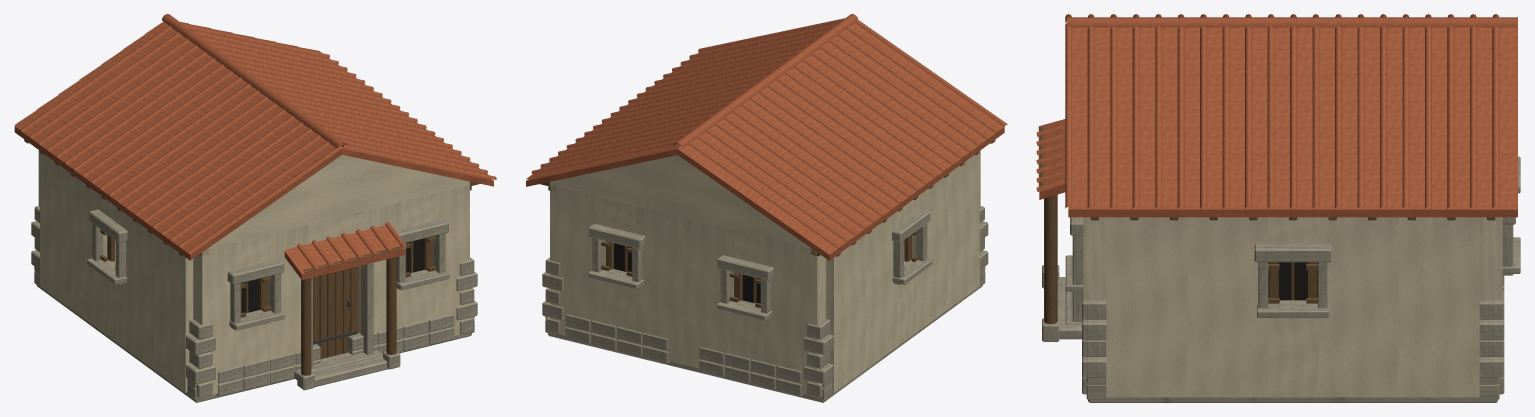
The model's file is provincial-house.glb.
3 views of the same model, side by side, from view 1: azimuth 30°, elevation 25°; view 2: azimuth 150°, elevation 25°; view 3: azimuth 270°, elevation 25° (orthographic). The views are drawn at different scales.
Visible parts, largest first — view 1: provincial-house; view 2: provincial-house; view 3: provincial-house.
Boxes of the visible parts, box(x1,y1,x2,y2) form: provincial-house: box(14, 14, 496, 402); provincial-house: box(526, 14, 1007, 402); provincial-house: box(1036, 14, 1520, 402).
Size of the model in its own units: 5.99 by 4.33 by 6.35.
1 material, 1 textured.
